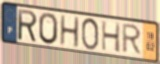H: (100, 19, 121, 54), (59, 15, 80, 50)
O: (38, 12, 59, 46), (81, 17, 100, 52)
R: (17, 8, 39, 44), (121, 23, 143, 56)
